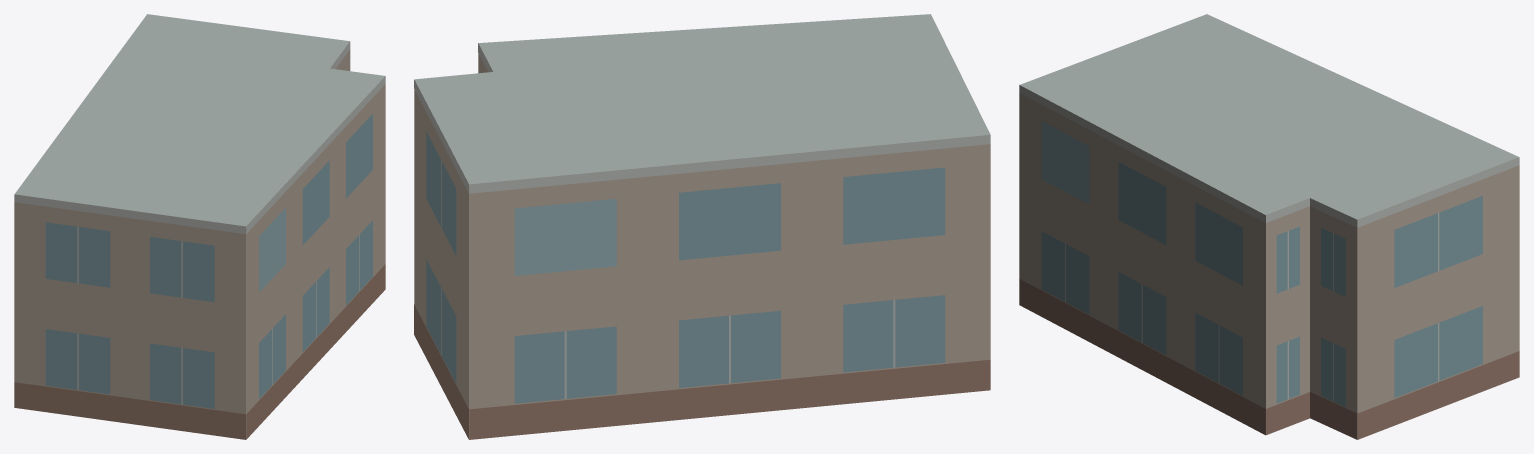
The model's file is survey-upis-32909395.glb.
3 views of the same model, side by side, from view 1: azimuth 30°, elevation 25°; view 2: azimuth 150°, elevation 25°; view 3: azimuth 270°, elevation 25° (orthographic). The views are drawn at different scales.
Parts seen in each view (by area): view 1: survey-upis-32909395.tmp; view 2: survey-upis-32909395.tmp; view 3: survey-upis-32909395.tmp.
Boxes of the visible parts, x1,y1,x2,y2 form: survey-upis-32909395.tmp: (14,14,385,439); survey-upis-32909395.tmp: (414,14,990,439); survey-upis-32909395.tmp: (1019,14,1519,439).
Bounding box in the file's own units: 13.44 × 6.7 × 13.8.
